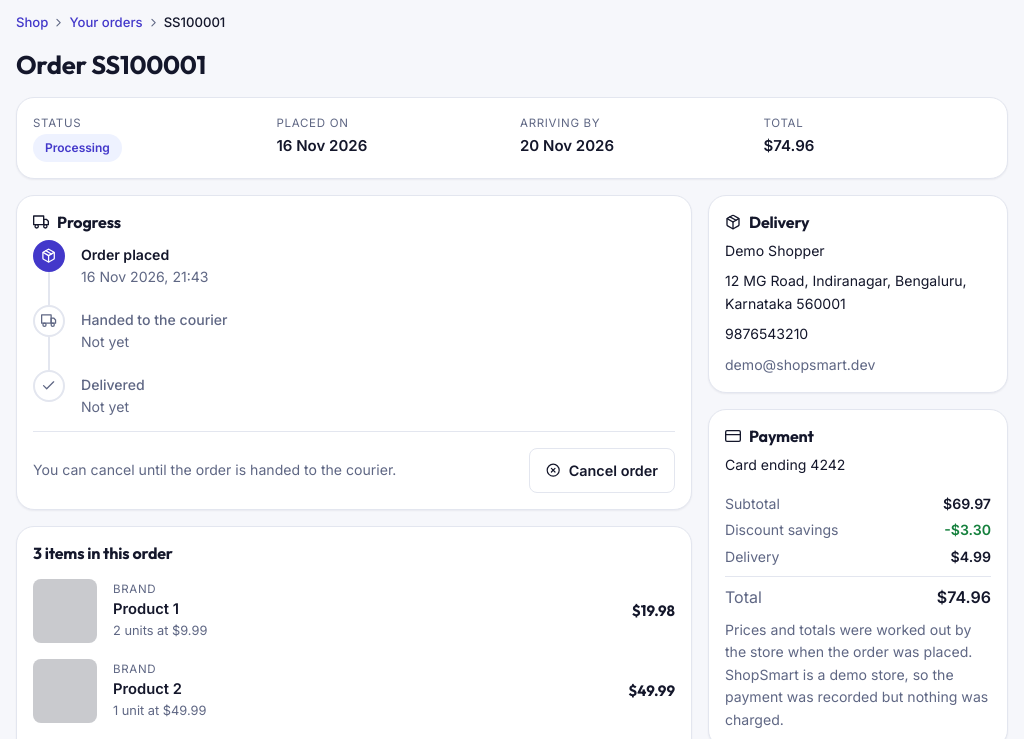
OrderDetails page › cancels a processing order after asking first
Click the button "Cancel order": (602, 470) [529,448,675,493]
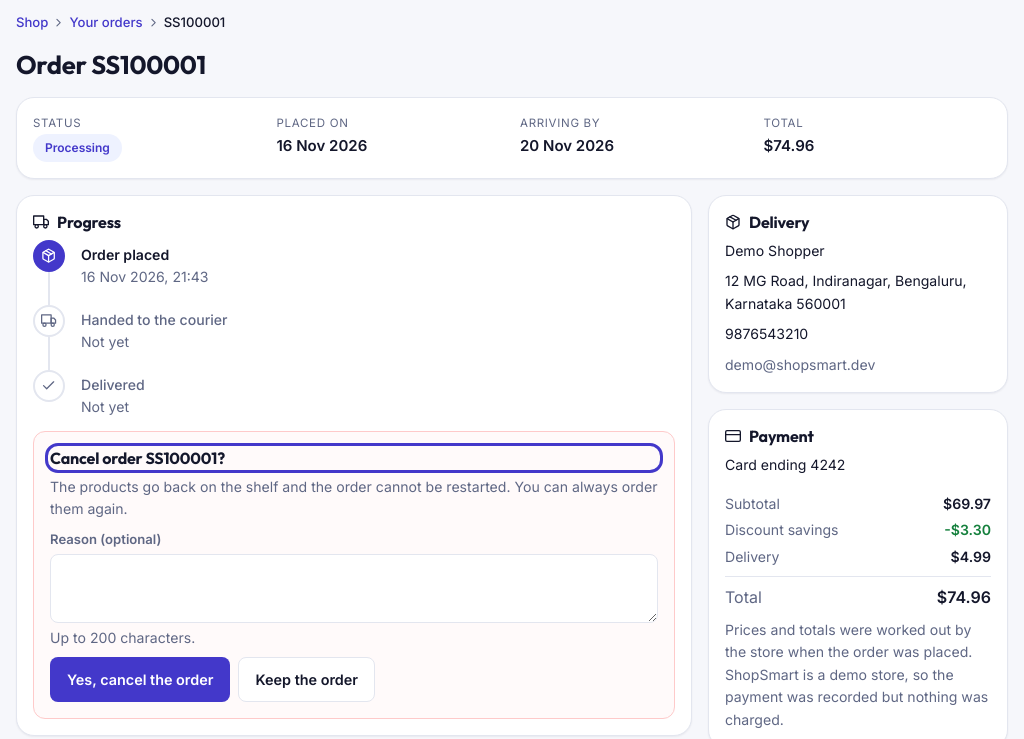
Changing your mind sends nothing.
Press Escape in the heading "Cancel order SS100001?", box [50,448,225,468]
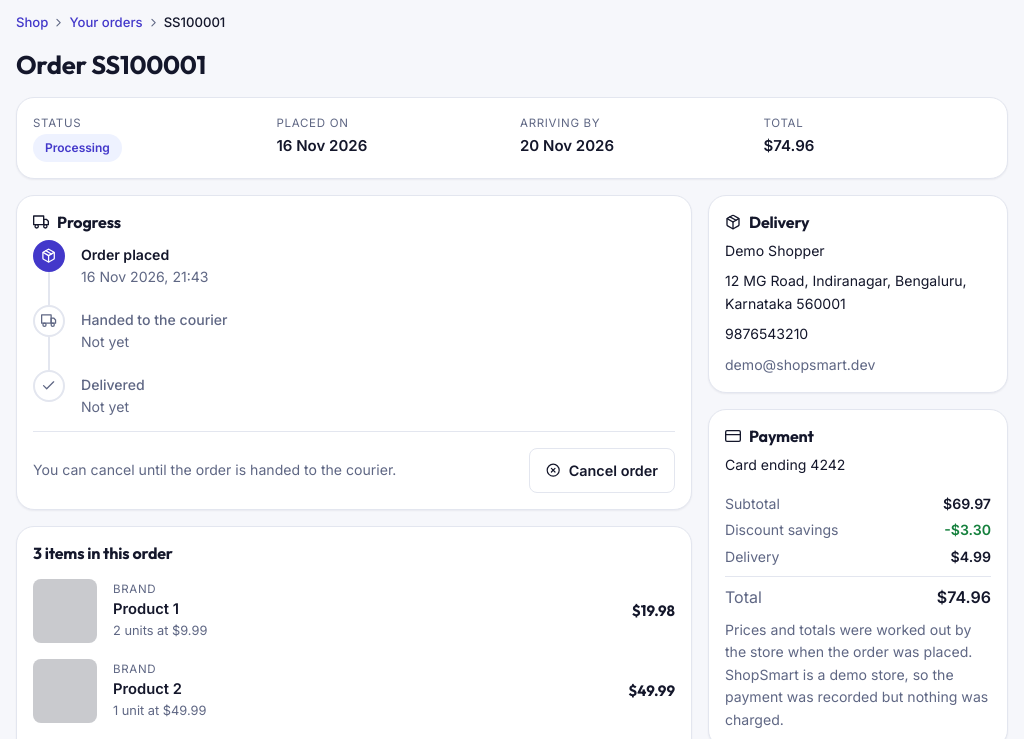
expect the heading "Cancel order SS100001?" is gone: met
Click the button "Cancel order": (602, 470) [529,448,675,493]
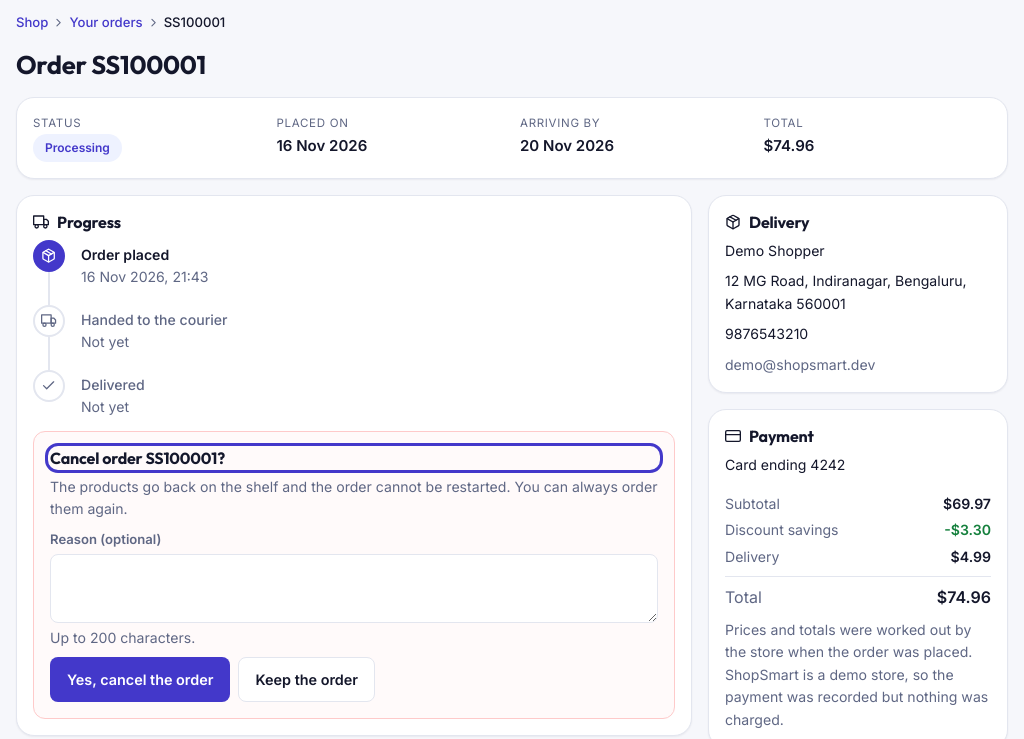
In the text box labelled "Reason (optional)": (354, 588) [50,554,658,623], type "Ordered twice"
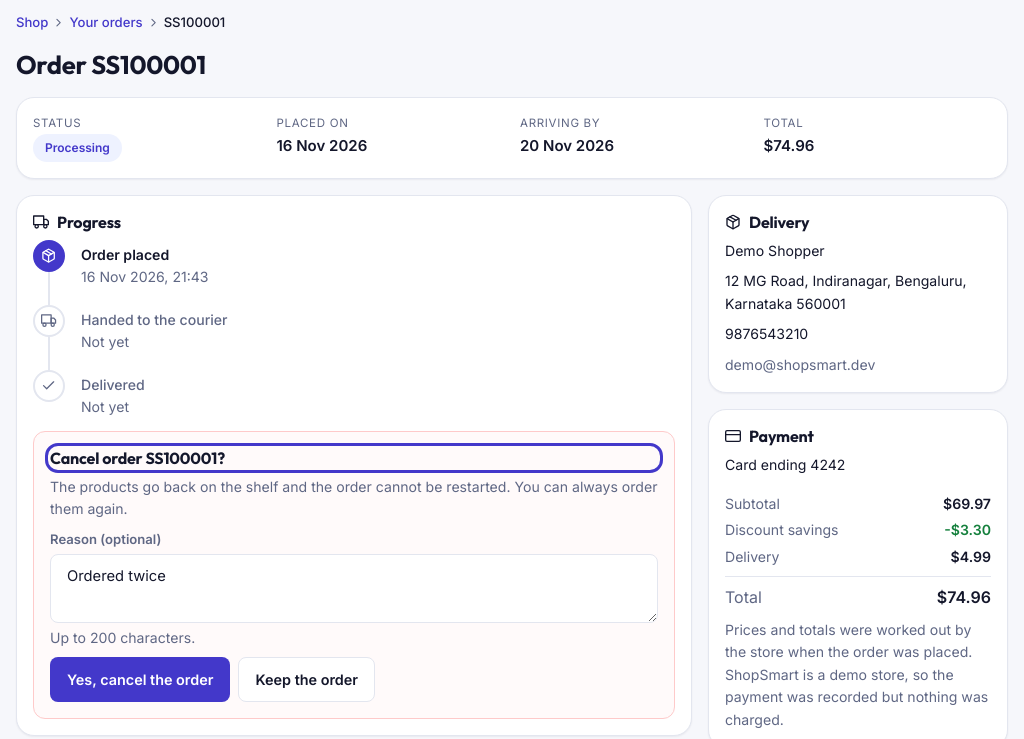
Click the button "Yes, cancel the order": (140, 680) [50,657,230,702]
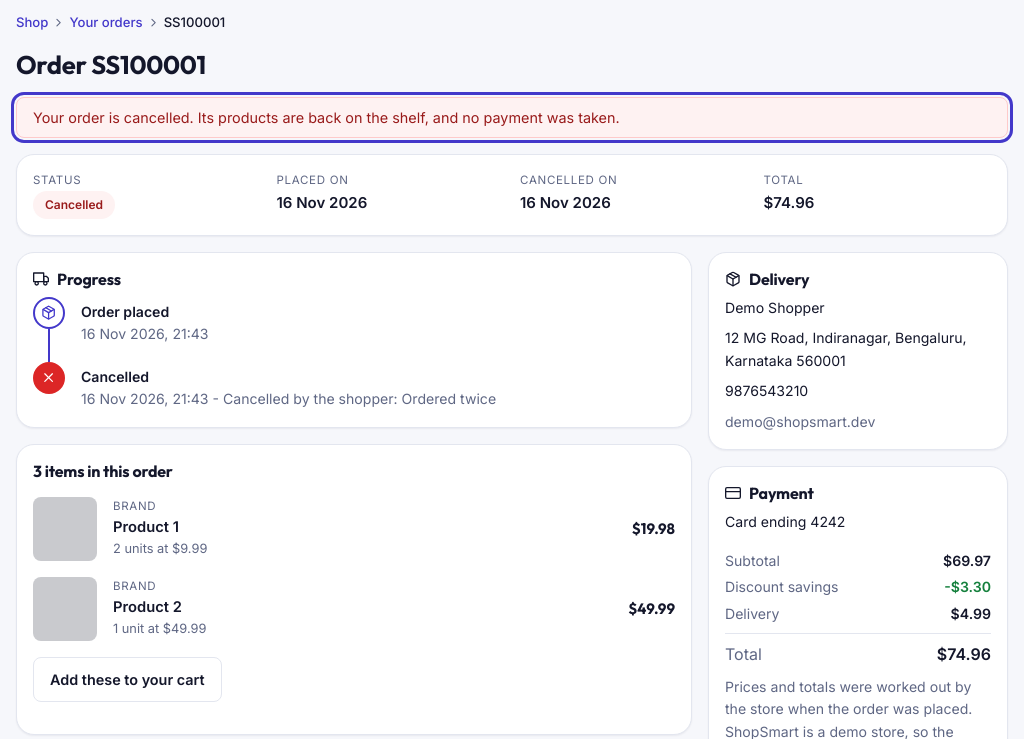
expect the text "16 Nov 2026, 21:43 - Cancelled by the shopper: Ordered twice" is shown: met, box [81,388,496,411]
expect the heading "Cancel order" is gone: met
